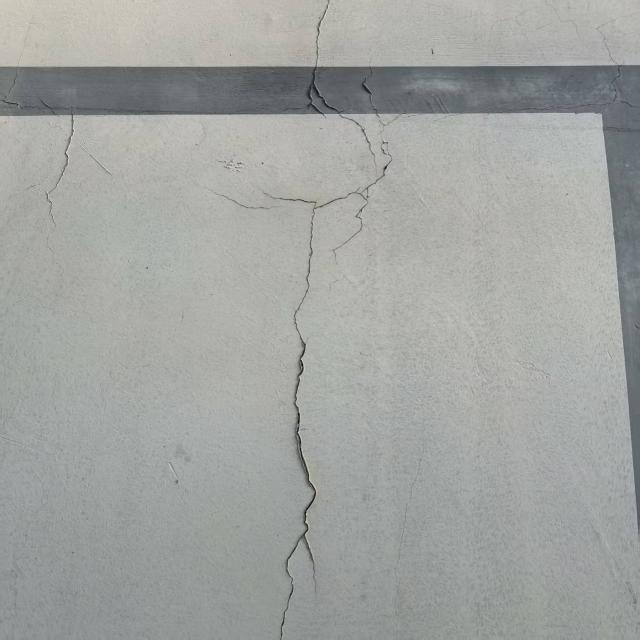crack: (191, 9, 418, 633), (7, 83, 86, 233)
